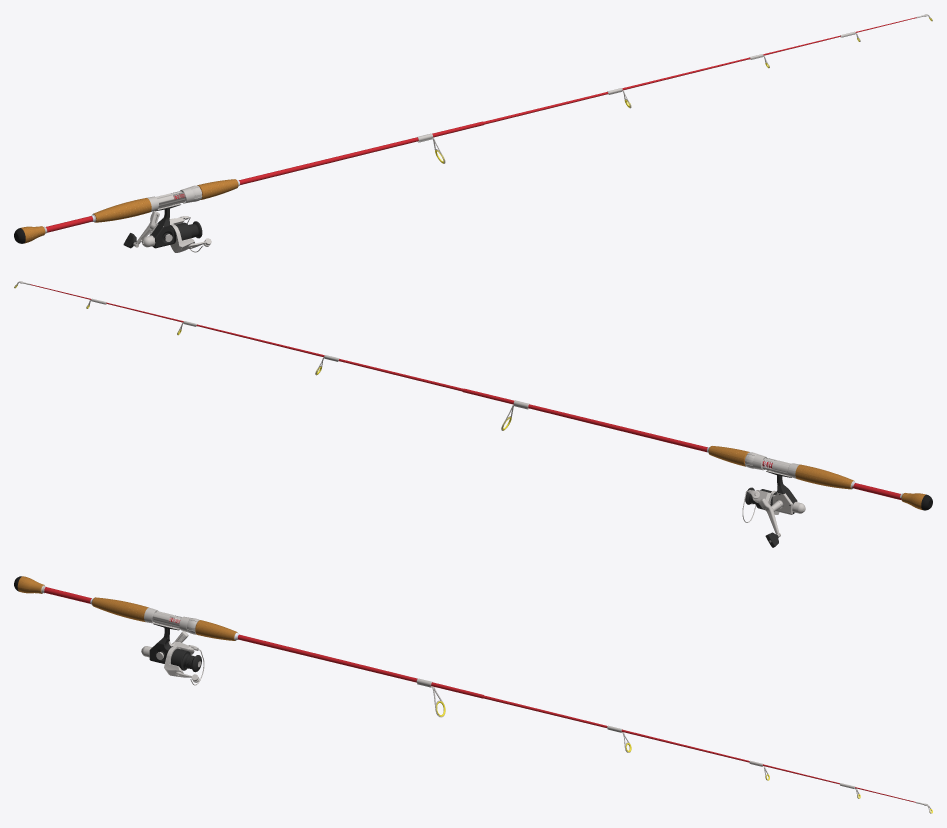
The model's file is Rod_Model.fbx.
3 views of the same model, one above another, from view 1: azimuth 30°, elevation 25°; view 2: azimuth 150°, elevation 25°; view 3: azimuth 330°, elevation 25° (orthographic).
Parts seen in each view (by area): view 1: NONE-DC_Shell_Paint Gloss Red #1_0, NONE-DC_Shell_Paint Gloss Red_0, NONE-DC_Shell_Light Oak_0, NONE-DC_Shell_Paint Matte Black_0, NONE-DC_Shell_Light Oak #1_0; view 2: NONE-DC_Shell_Paint Gloss Red #1_0, NONE-DC_Shell_Paint Gloss Red_0, NONE-DC_Shell_Light Oak_0; view 3: NONE-DC_Shell_Paint Gloss Red #1_0, NONE-DC_Shell_Paint Gloss Red_0, NONE-DC_Shell_Light Oak_0, NONE-DC_Shell_Light Oak #1_0.
Part boxes in pixels (bbox=[...]): NONE-DC_Shell_Paint Gloss Red #1_0: bbox=[46, 121, 483, 232]; NONE-DC_Shell_Paint Gloss Red_0: bbox=[483, 17, 916, 124]; NONE-DC_Shell_Light Oak_0: bbox=[92, 198, 151, 222]; NONE-DC_Shell_Paint Matte Black_0: bbox=[151, 204, 180, 248]; NONE-DC_Shell_Light Oak #1_0: bbox=[197, 179, 238, 199]; NONE-DC_Shell_Paint Gloss Red #1_0: bbox=[462, 388, 901, 500]; NONE-DC_Shell_Paint Gloss Red_0: bbox=[30, 284, 462, 391]; NONE-DC_Shell_Light Oak_0: bbox=[795, 464, 854, 489]; NONE-DC_Shell_Paint Gloss Red #1_0: bbox=[44, 587, 483, 698]; NONE-DC_Shell_Paint Gloss Red_0: bbox=[482, 695, 915, 802]; NONE-DC_Shell_Light Oak_0: bbox=[92, 597, 148, 621]; NONE-DC_Shell_Light Oak #1_0: bbox=[195, 620, 237, 640].
Bounding box in the file's own units: 21680 × 1517 × 1332.
78 materials, 3 textured.
